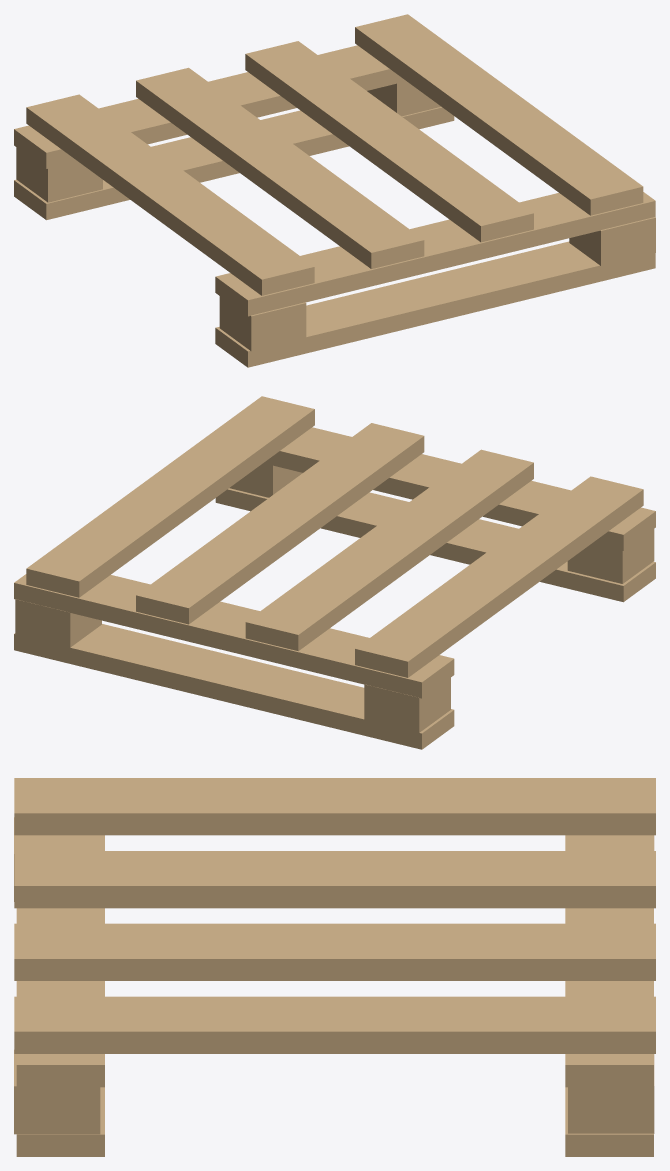
File: SM_Palette.fbx
3 renders of one model, top to bottom at view 1: azimuth 30°, elevation 25°; view 2: azimuth 150°, elevation 25°; view 3: azimuth 270°, elevation 25°, orthographic. The views are drawn at different scales.
Visible parts, largest first — view 1: SM_Palette; view 2: SM_Palette; view 3: SM_Palette.
Part boxes in pixels (x1,y1,x2,y2): SM_Palette: (14, 14, 655, 367); SM_Palette: (14, 396, 655, 749); SM_Palette: (14, 778, 655, 1156).
Size of the model in its own units: 2.24 by 0.4488 by 2.24.
